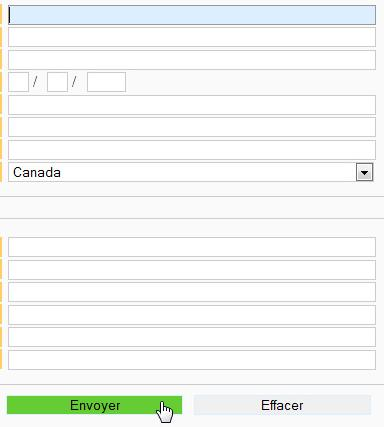button: (192, 394, 373, 417), (4, 394, 184, 415)
field: (6, 115, 378, 139), (6, 160, 378, 184), (7, 47, 378, 71), (6, 303, 379, 326), (6, 325, 379, 348), (6, 3, 377, 26), (7, 26, 378, 49), (6, 94, 379, 116), (5, 138, 378, 160), (6, 280, 379, 302), (6, 349, 379, 371), (6, 236, 378, 258), (6, 259, 378, 281), (85, 70, 127, 93), (6, 69, 31, 93), (44, 70, 68, 93)
